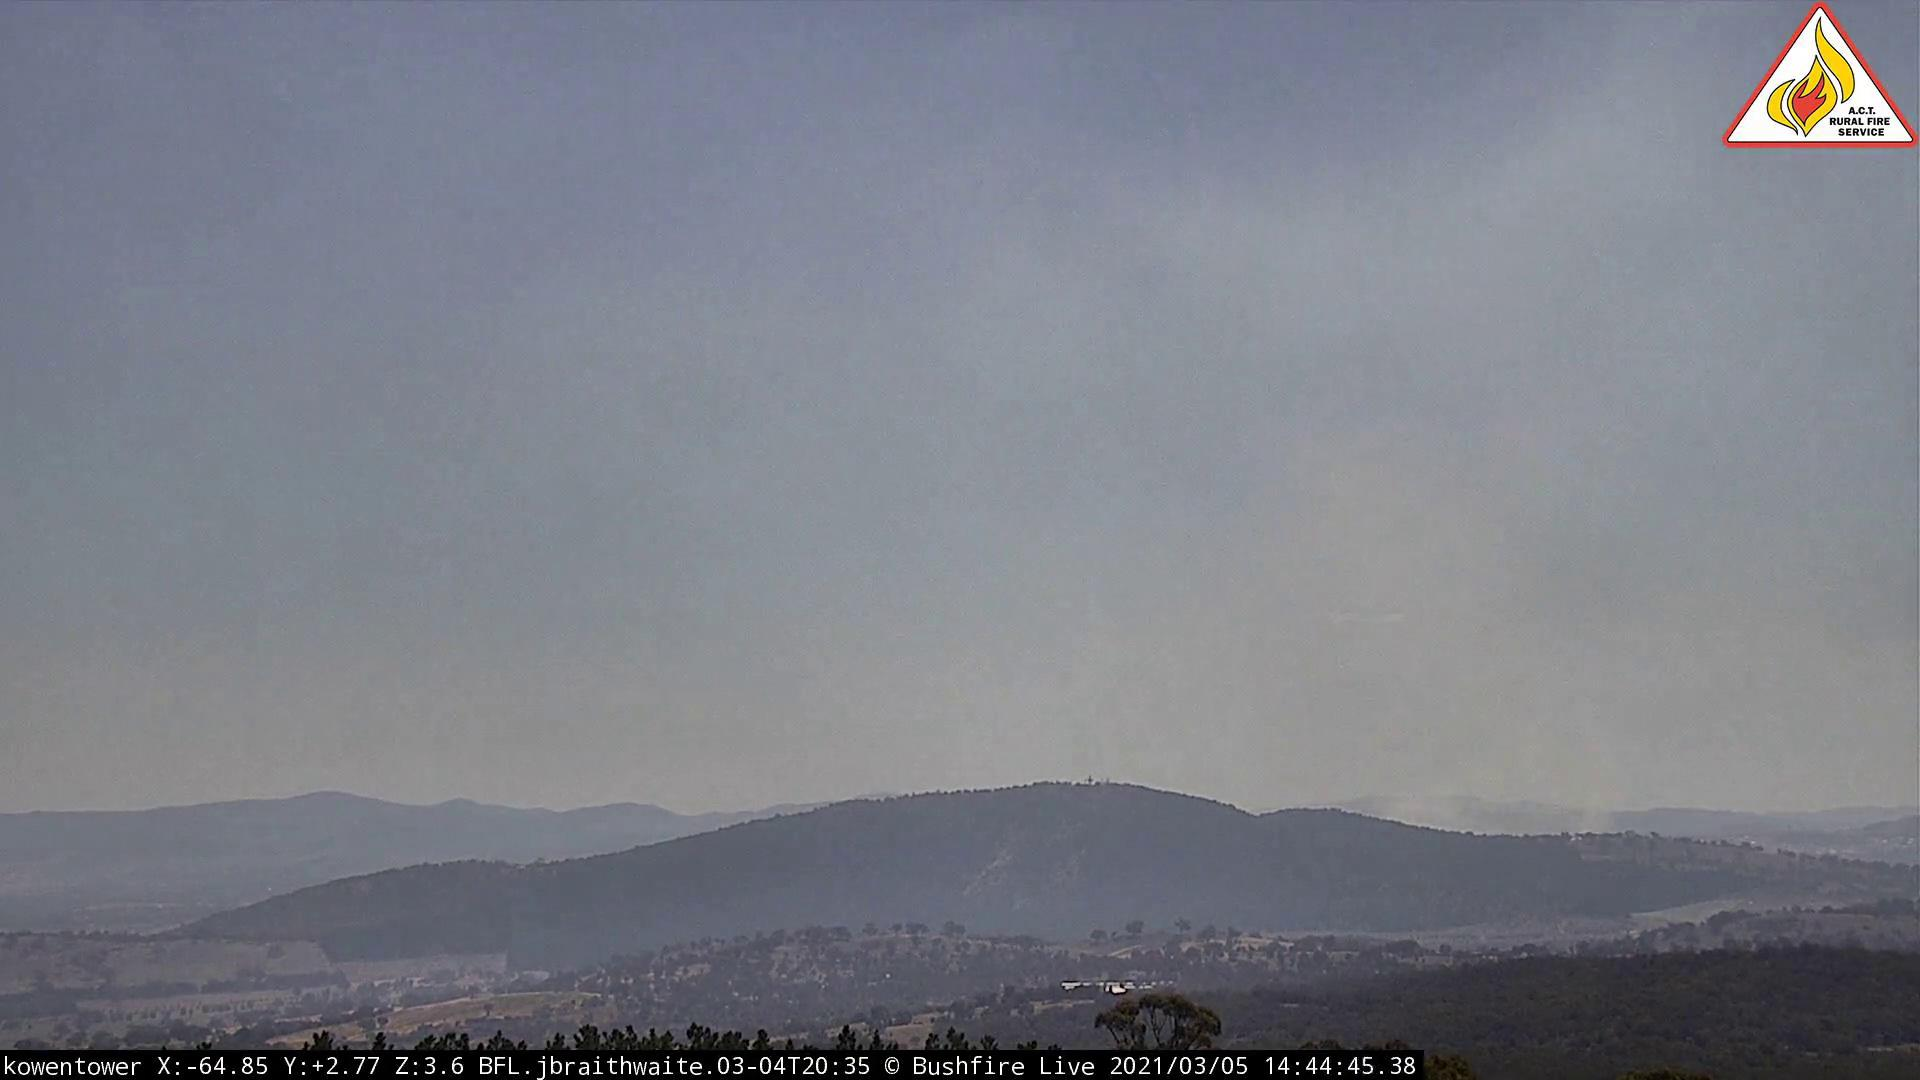Smoke: (1230, 509, 1627, 843)
